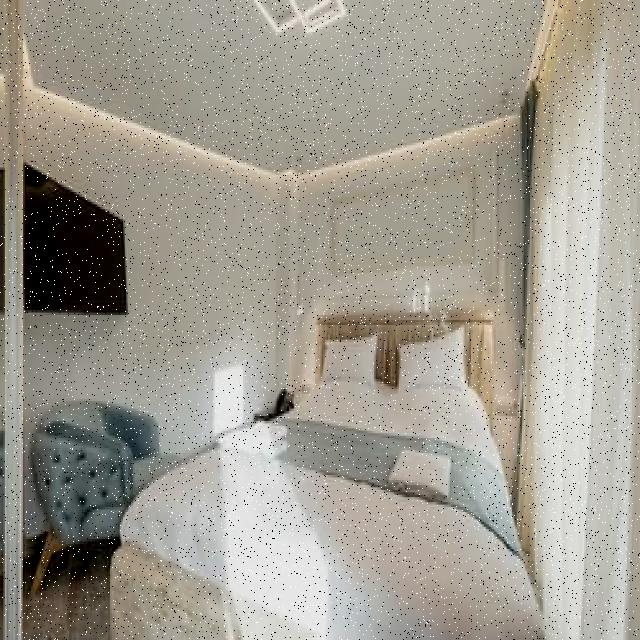bed: (116, 324, 546, 622)
